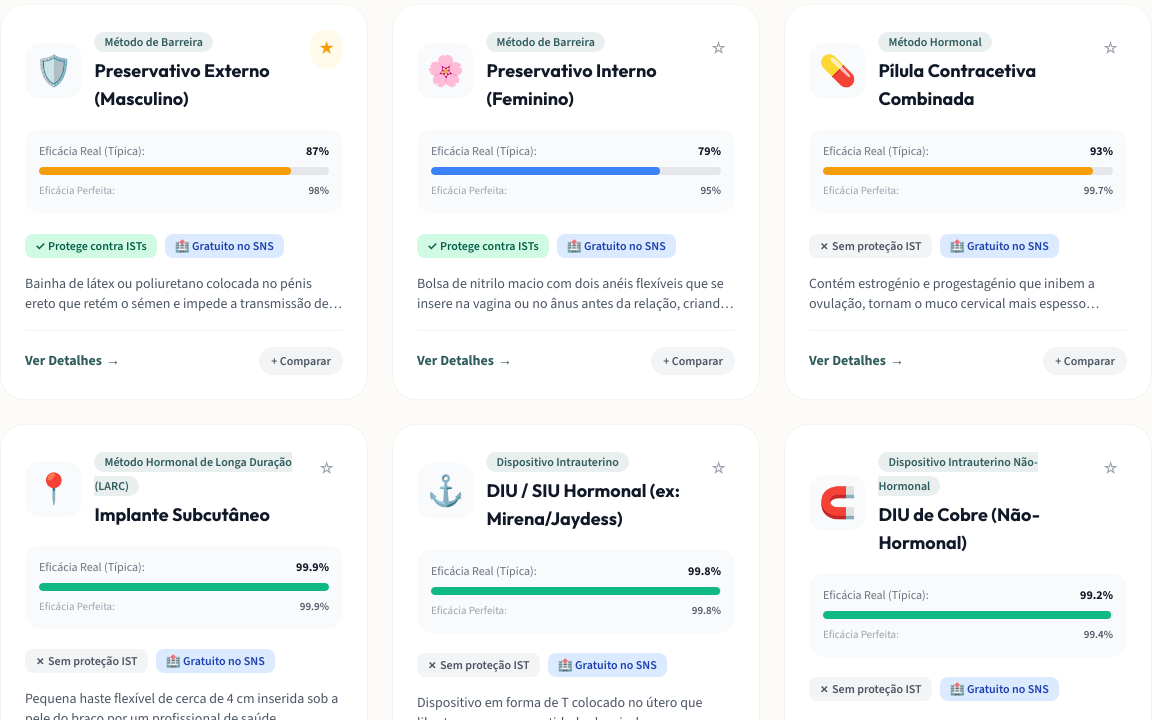
Test: ContraceptiveComparator › opens comparison modal when compare button clicked with methods selected
(page scrolled)
Click the button "+ Comparar" below "98" at point(301, 360), box [259,346,343,374]
(page scrolled)
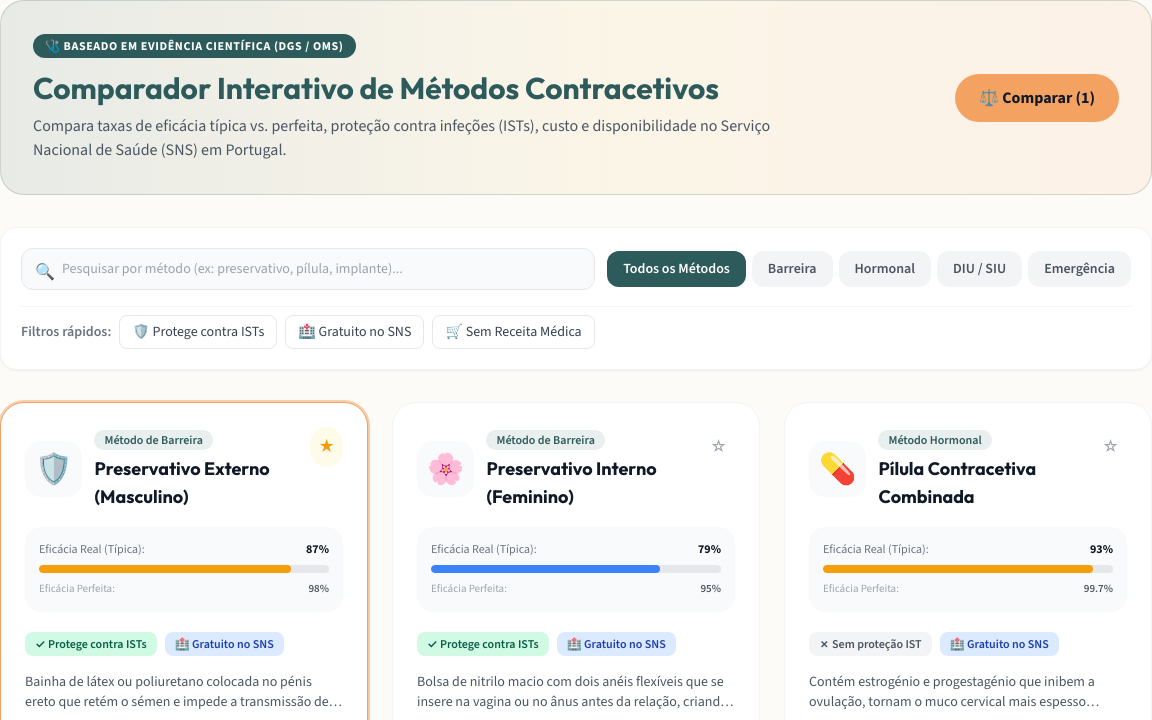
Check: the button "⚖️ Comparar (1)" is shown
Click the button "⚖️ Comparar (1)" at point(1037, 98), box [955,74,1119,122]
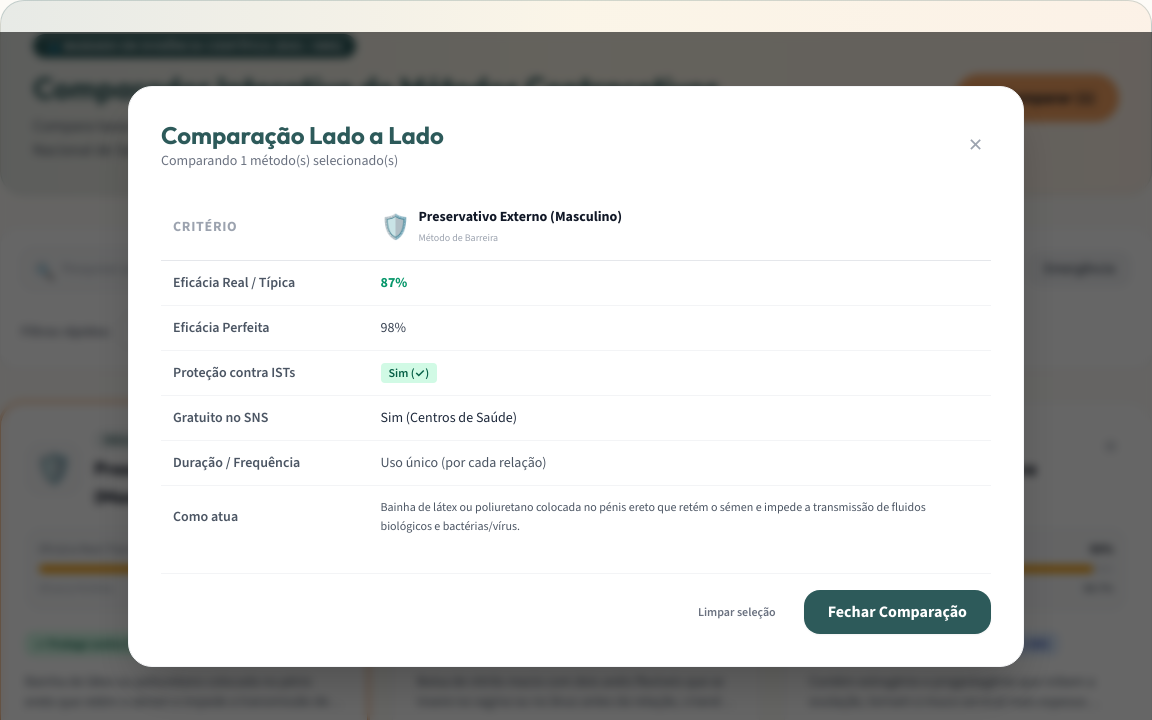
Check: the dialog is shown
Check: the text "Comparando 1 método(s) selecionado(s)" is shown, box [161,150,398,170]
